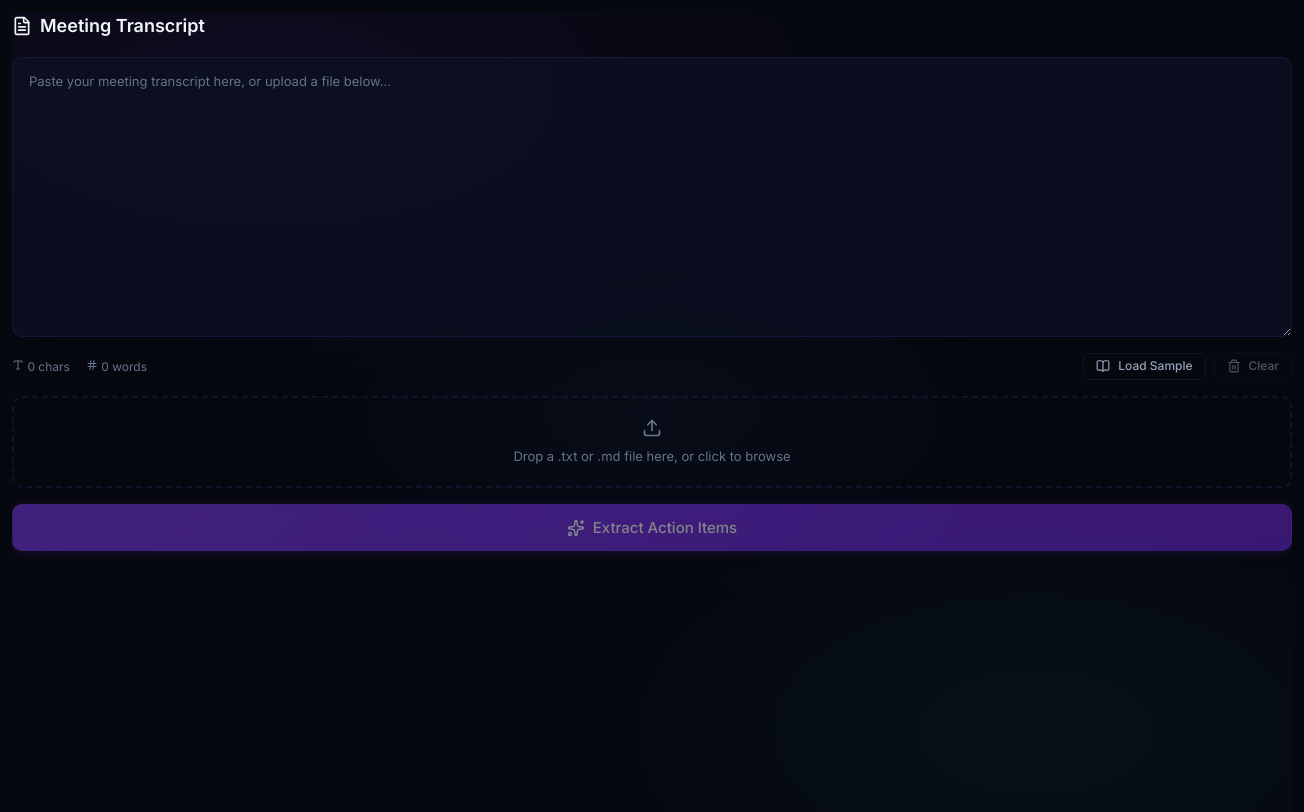
Test: TranscriptInput › shows word and character count
In the text box with placeholder "Paste your meeting transcript": (652, 197) [12,57,1292,337], type "hello world test"
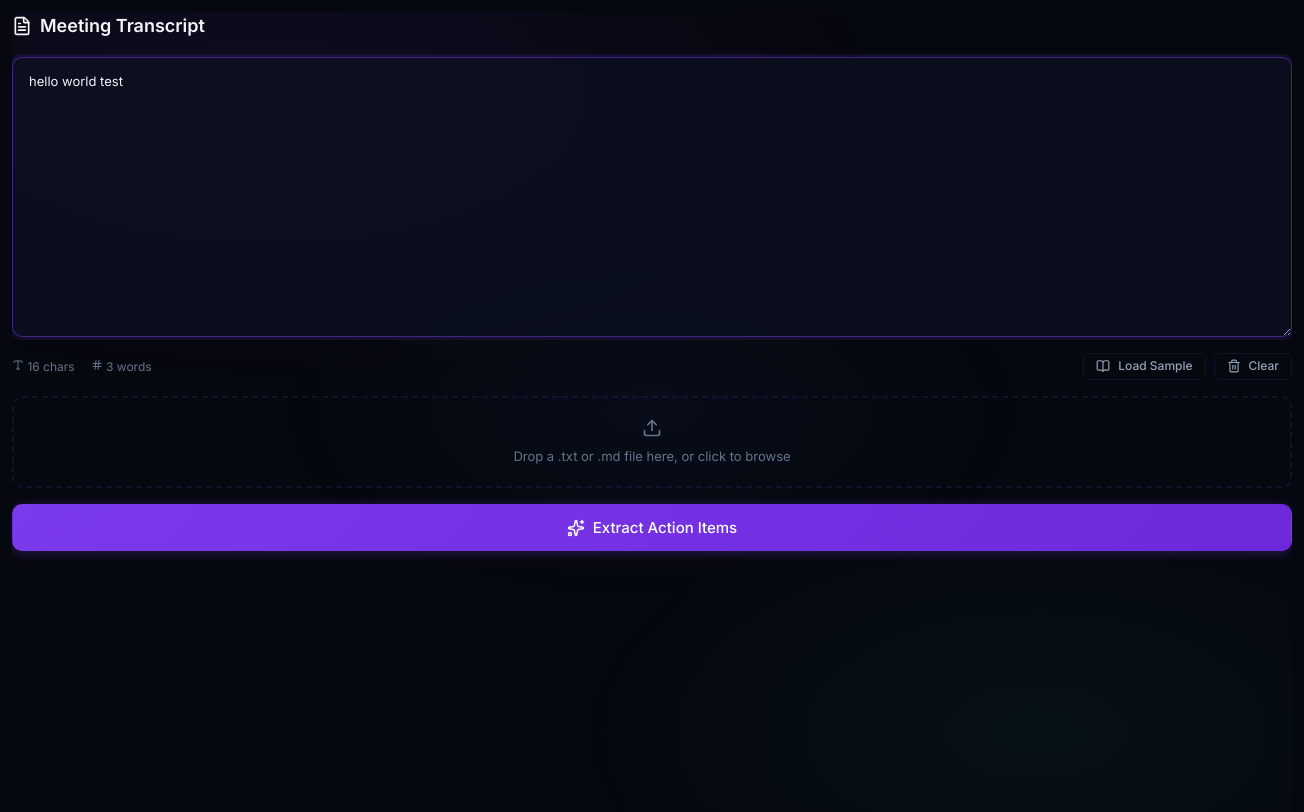
Now the text "3 words" is shown, box [91,357,152,376]
